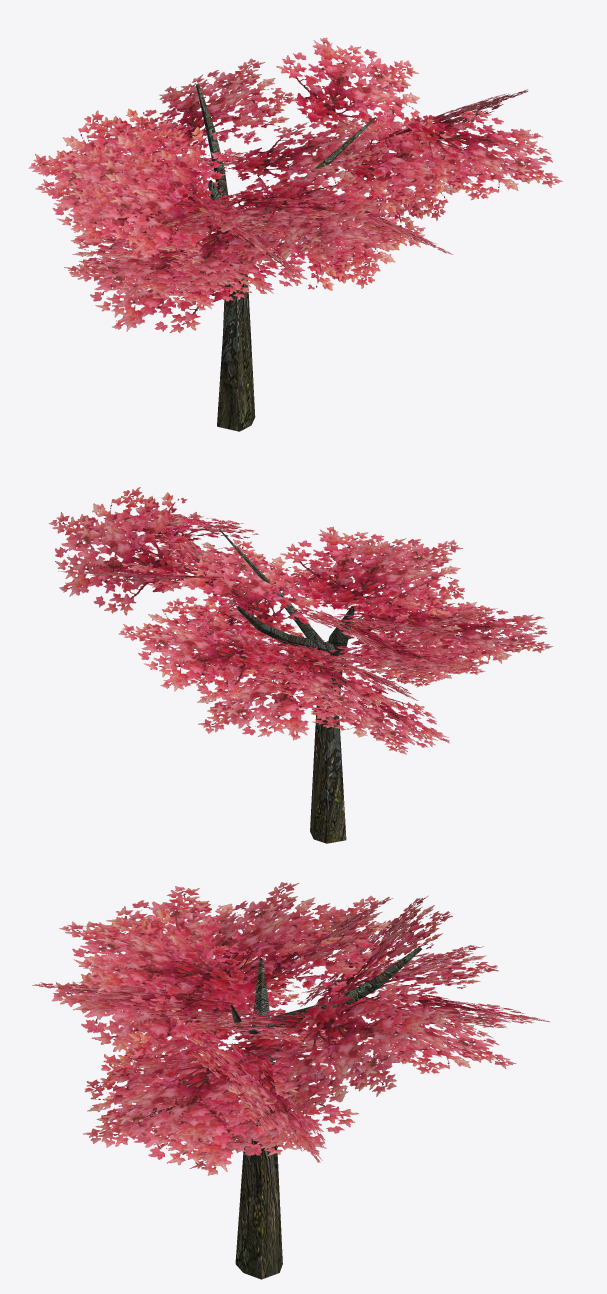
Rendered from a_zhiwu_018.fbx.
The picture shows the model from 3 angles, top to bottom: view 1: azimuth 30°, elevation 25°; view 2: azimuth 150°, elevation 25°; view 3: azimuth 270°, elevation 25°; orthographic projection. The views are drawn at different scales.
Visible parts, largest first — view 1: a_zhiwu_018; view 2: a_zhiwu_018; view 3: a_zhiwu_018.
Part boxes in pixels (<box>): a_zhiwu_018: <box>28,37,562,431</box>; a_zhiwu_018: <box>48,487,553,843</box>; a_zhiwu_018: <box>32,882,549,1279</box>.
Bounding box in the file's own units: 12.39 × 6.82 × 9.96.
